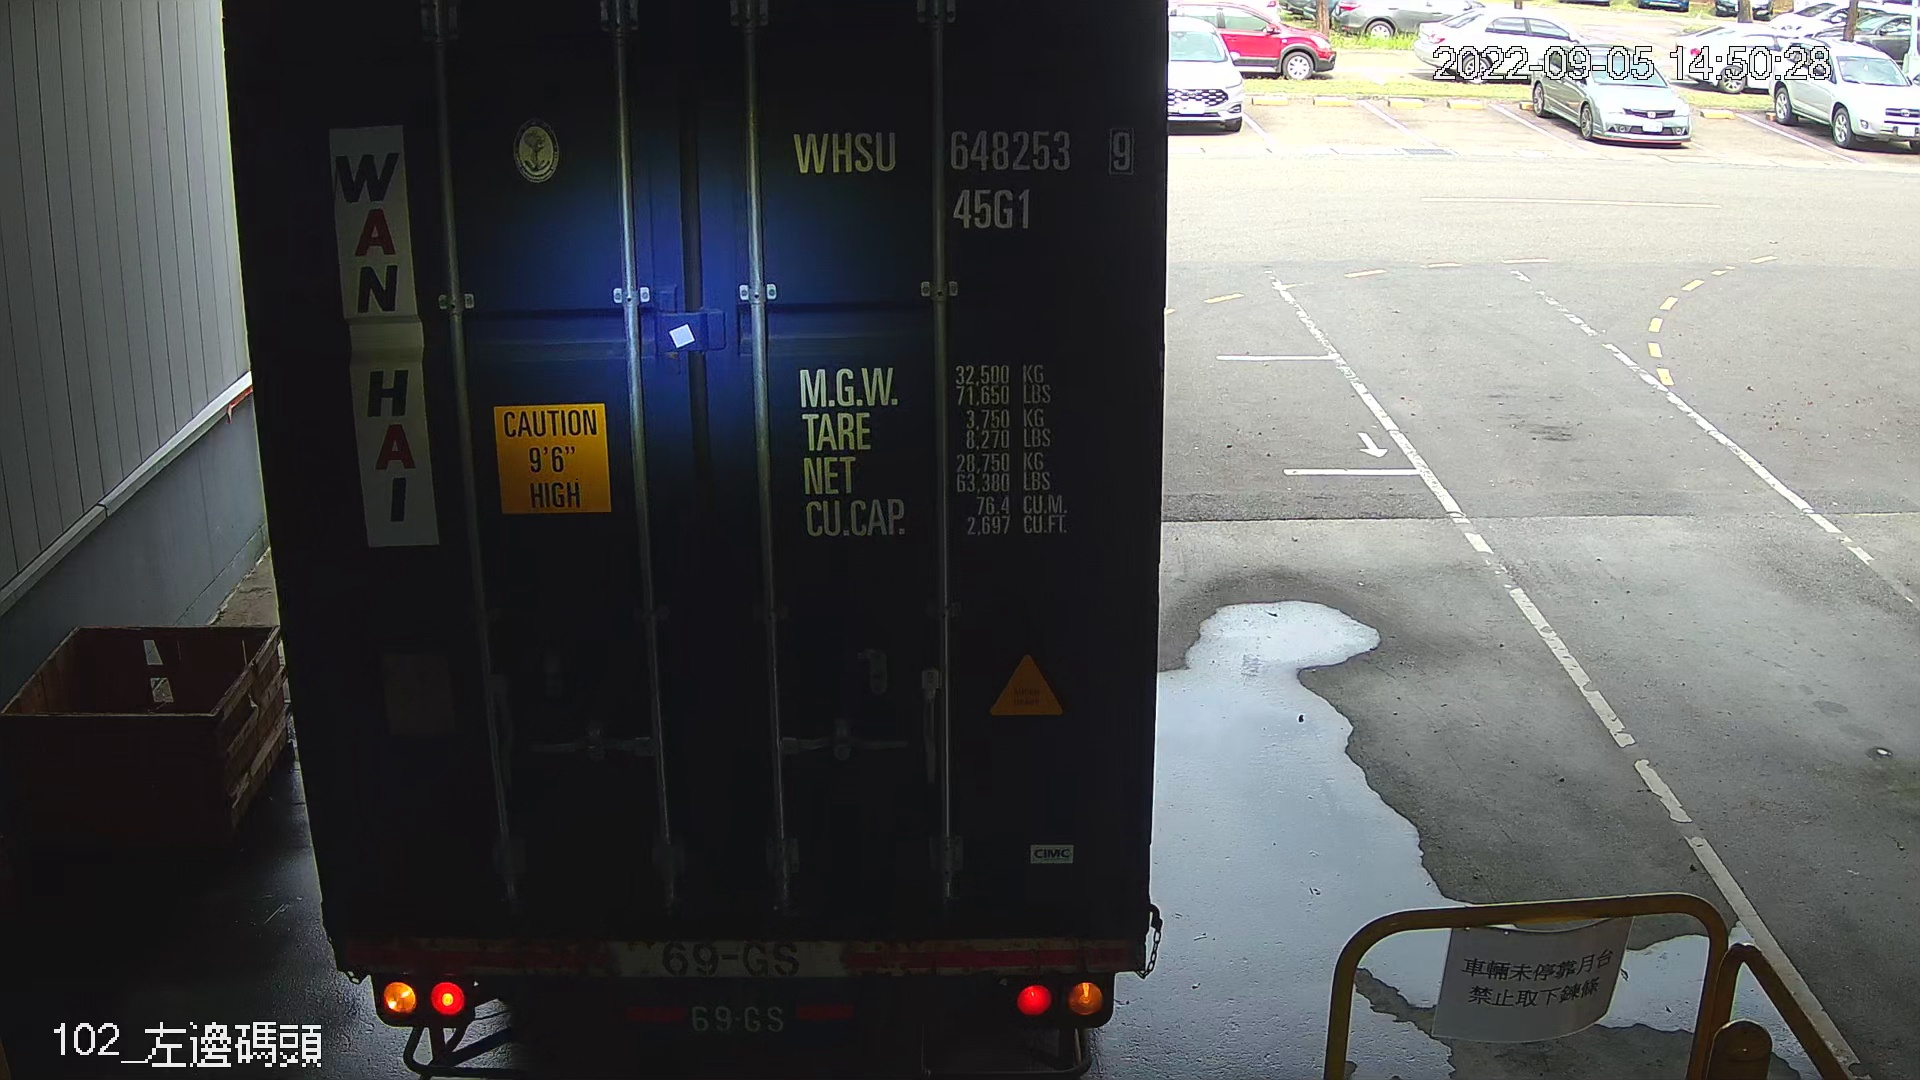container: (781, 113, 1145, 244)
